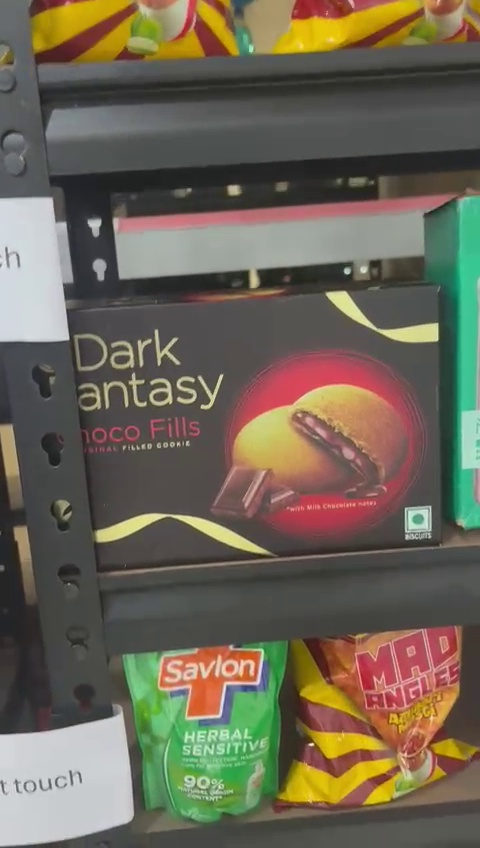Dark Fantasy: (70, 286, 450, 564)
